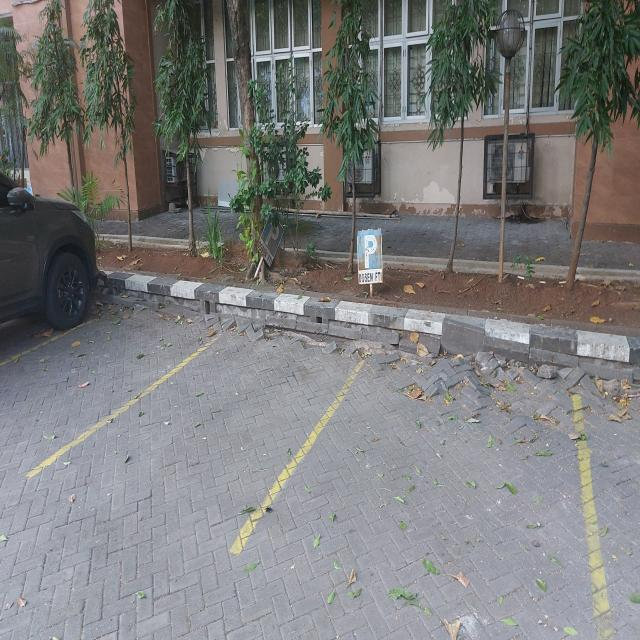empty: (238, 353, 604, 615), (27, 331, 365, 548), (0, 300, 228, 475)
